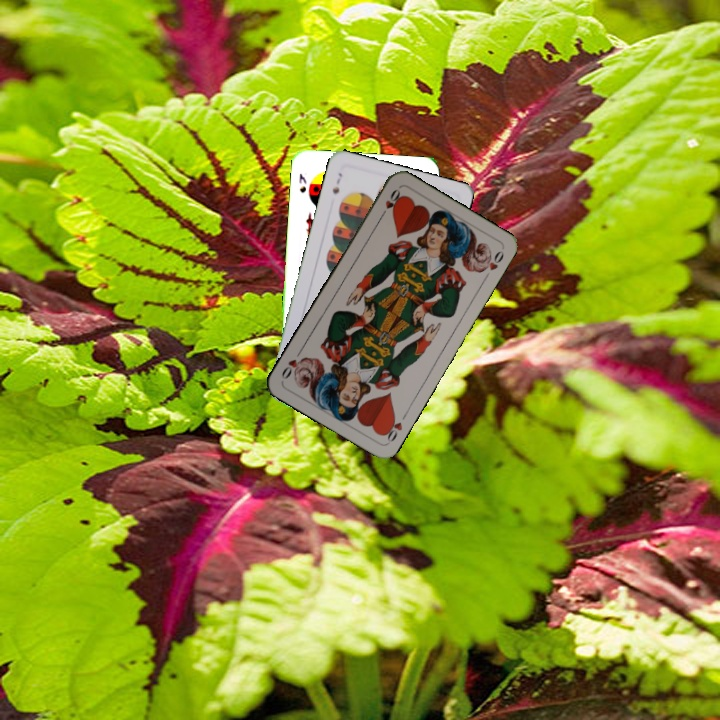HO: (379, 409, 410, 445), (376, 185, 403, 221)
S7: (328, 169, 345, 196)
SK: (295, 169, 309, 195)
